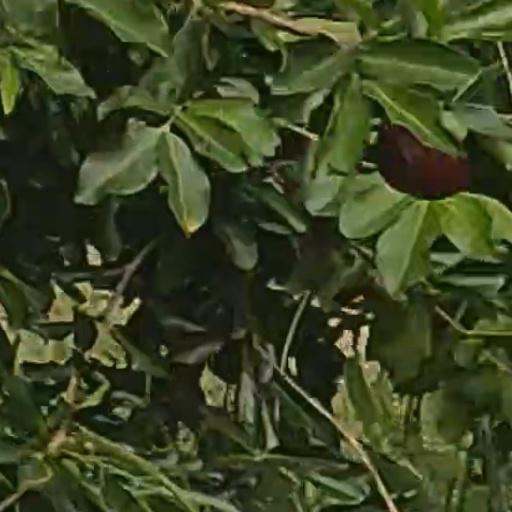acerola: (378, 127, 467, 194)
